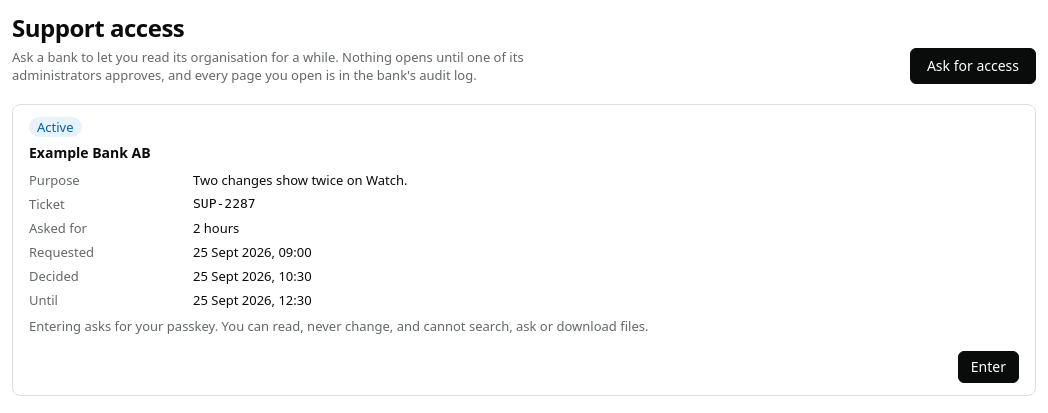
the console support access screen › enters a live grant, holds the support session, and reads nothing more; Leave signs out
This screenshot has width=1048, height=413.
Later steps or results of the test are not shown.
Click the button "Enter": point(988, 367) [958, 351, 1019, 383]
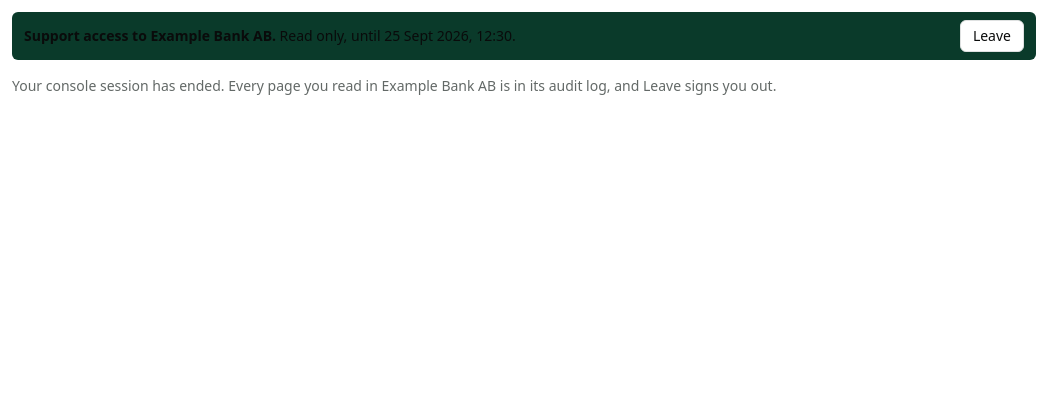
Now the text "Support access to Example Bank AB." is shown, box [24, 26, 276, 45]
